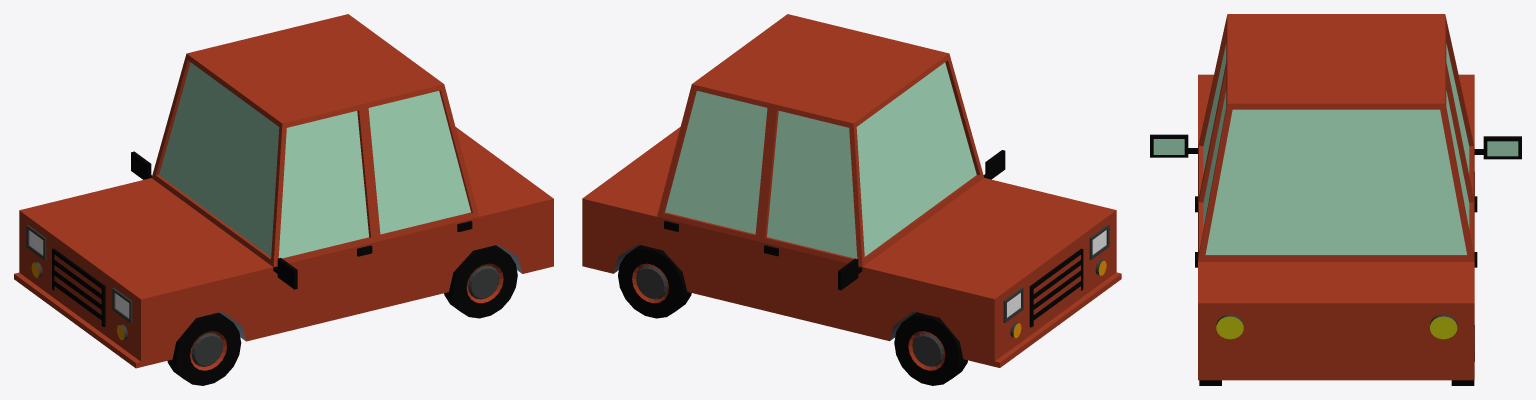
Rendered from car4C.FBX.
3 views of the same model, side by side, from view 1: azimuth 30°, elevation 25°; view 2: azimuth 150°, elevation 25°; view 3: azimuth 270°, elevation 25° (orthographic). The views are drawn at different scales.
Visible parts, largest first — view 1: car4C; view 2: car4C; view 3: car4C.
Boxes of the visible parts, x1,y1,x2,y2 form: car4C: [14, 14, 553, 385]; car4C: [582, 14, 1121, 385]; car4C: [1150, 14, 1521, 385].
Bounding box in the file's own units: 9.78 × 5.11 × 6.58.
